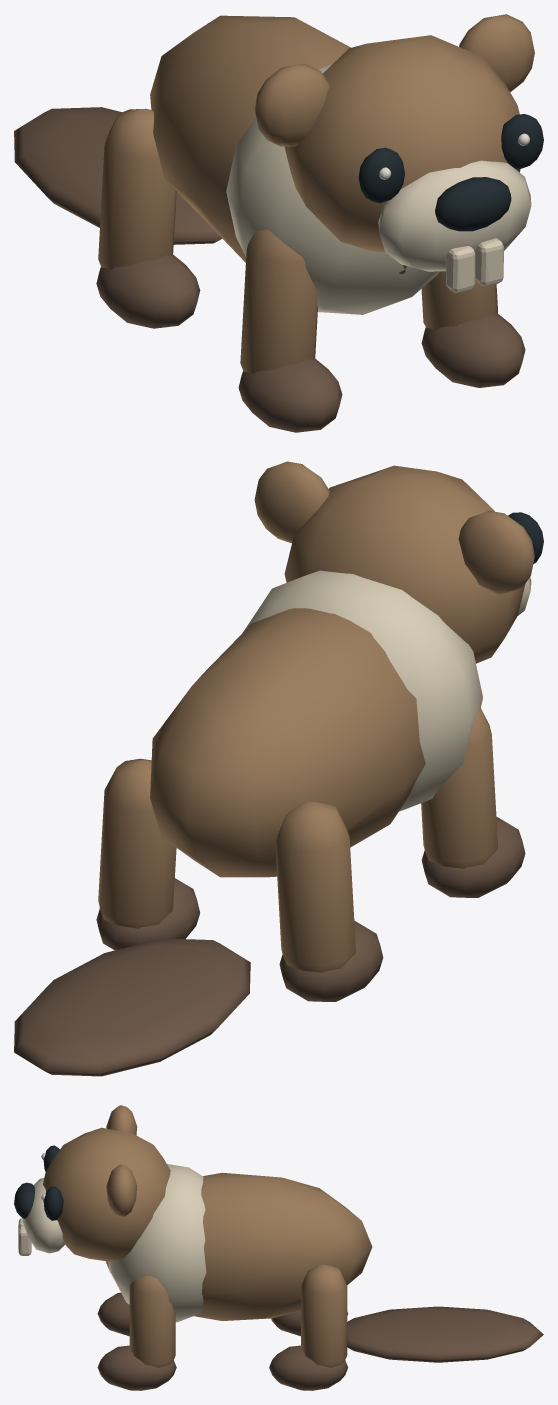
File: org_beaver.glb
3 renders of one model, top to bottom at view 1: azimuth 30°, elevation 25°; view 2: azimuth 150°, elevation 25°; view 3: azimuth 270°, elevation 25°, orthographic. The views are drawn at different scales.
Visible parts, largest first — view 1: Head, Body, Leg_BR, Leg_FR, Tail, Leg_FL, Eye_R, Eye_L; view 2: Body, Head, Tail, Leg_BR, Leg_BL, Leg_FR; view 3: Body, Head, Tail, Leg_BL, Leg_FL, Leg_FR, Eye_L, Leg_BR.
Part boxes in pixels (left/top/right/bottom): Head: left=254, top=14, right=534, bottom=292; Body: left=150, top=15, right=439, bottom=314; Leg_BR: left=96, top=108, right=200, bottom=328; Leg_FR: left=238, top=229, right=342, bottom=432; Tail: left=14, top=107, right=221, bottom=244; Leg_FL: left=421, top=271, right=525, bottom=387; Eye_R: left=358, top=147, right=404, bottom=203; Eye_L: left=501, top=114, right=543, bottom=169; Body: left=150, top=570, right=482, bottom=877; Head: left=254, top=461, right=534, bottom=663; Tail: left=14, top=938, right=250, bottom=1076; Leg_BR: left=276, top=801, right=383, bottom=1001; Leg_BL: left=96, top=758, right=200, bottom=950; Leg_FR: left=421, top=707, right=525, bottom=897; Body: left=105, top=1164, right=372, bottom=1322; Head: left=14, top=1105, right=170, bottom=1261; Tail: left=347, top=1306, right=543, bottom=1362; Leg_BL: left=269, top=1264, right=348, bottom=1390; Leg_FL: left=97, top=1275, right=176, bottom=1390; Leg_FR: left=97, top=1292, right=129, bottom=1336; Eye_L: left=41, top=1186, right=63, bottom=1220; Leg_BR: left=271, top=1285, right=348, bottom=1336.
Bounding box in the file's own units: 0.4673 × 0.6 × 1.28.
